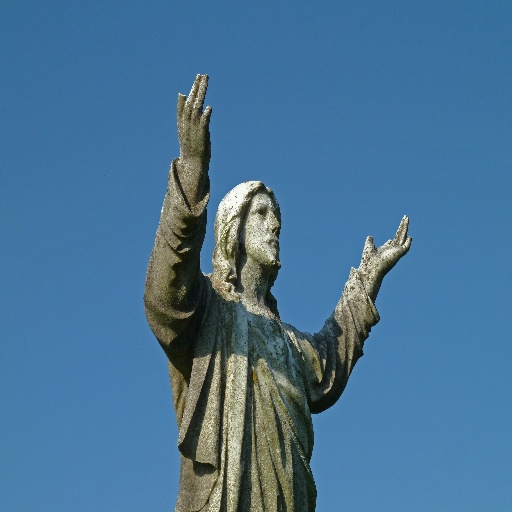hand: (168, 73, 219, 220), (363, 213, 412, 278)
